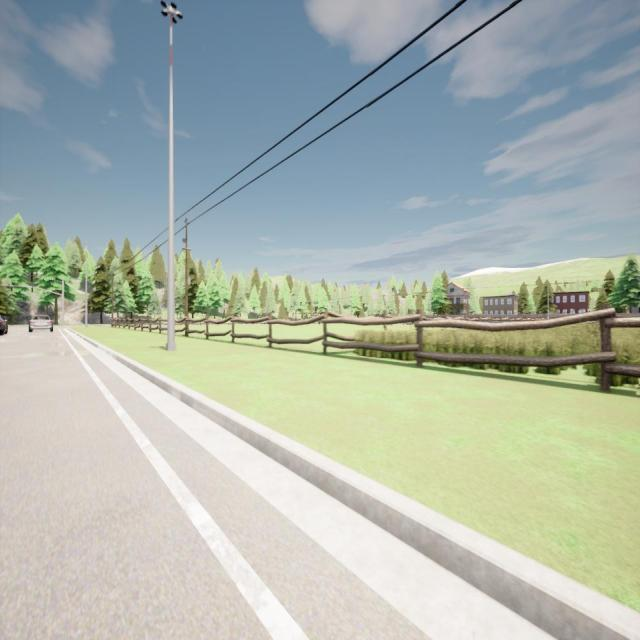Vehicle: (28, 314, 55, 333), (0, 314, 8, 336)
traffic_light: (10, 285, 12, 291), (31, 286, 33, 292)
